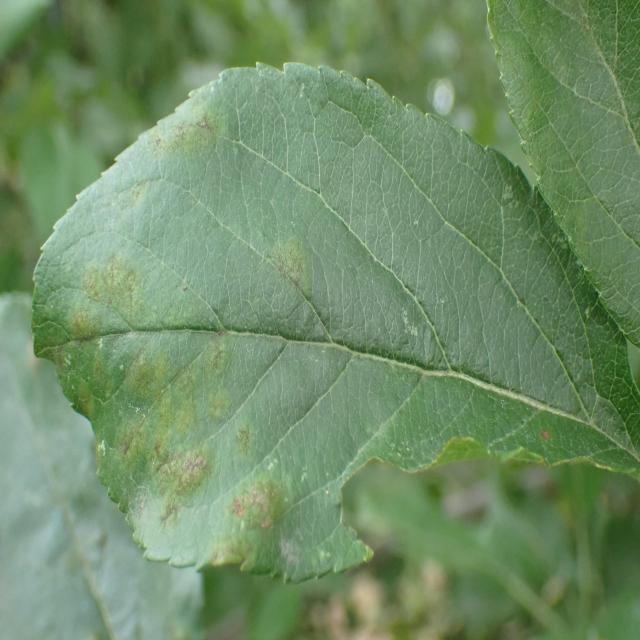scab: (39, 102, 506, 569)
